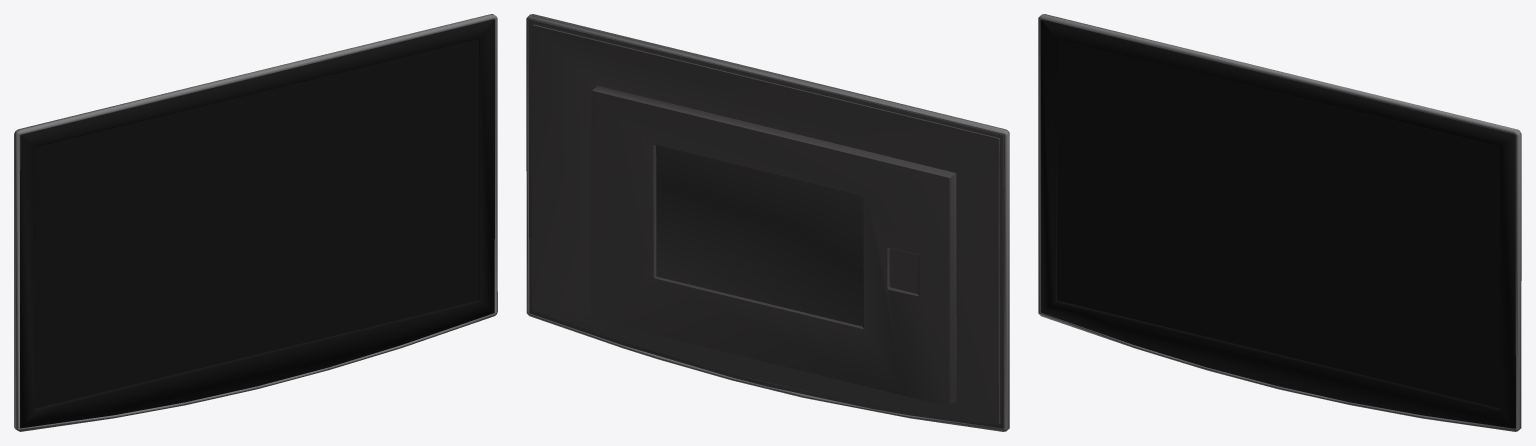
3 renders of one model, left to right at view 1: azimuth 30°, elevation 25°; view 2: azimuth 150°, elevation 25°; view 3: azimuth 330°, elevation 25°, orthographic.
Visible parts, largest first — view 1: Tv; view 2: Tv; view 3: Tv.
Boxes of the visible parts, left/top/right/bottom form: Tv: left=14, top=14, right=497, bottom=431; Tv: left=526, top=14, right=1009, bottom=431; Tv: left=1038, top=14, right=1521, bottom=431.
Size of the model in its own units: 38.36 by 24.06 by 1.54.
Materials: 2 (1 with a texture image).
